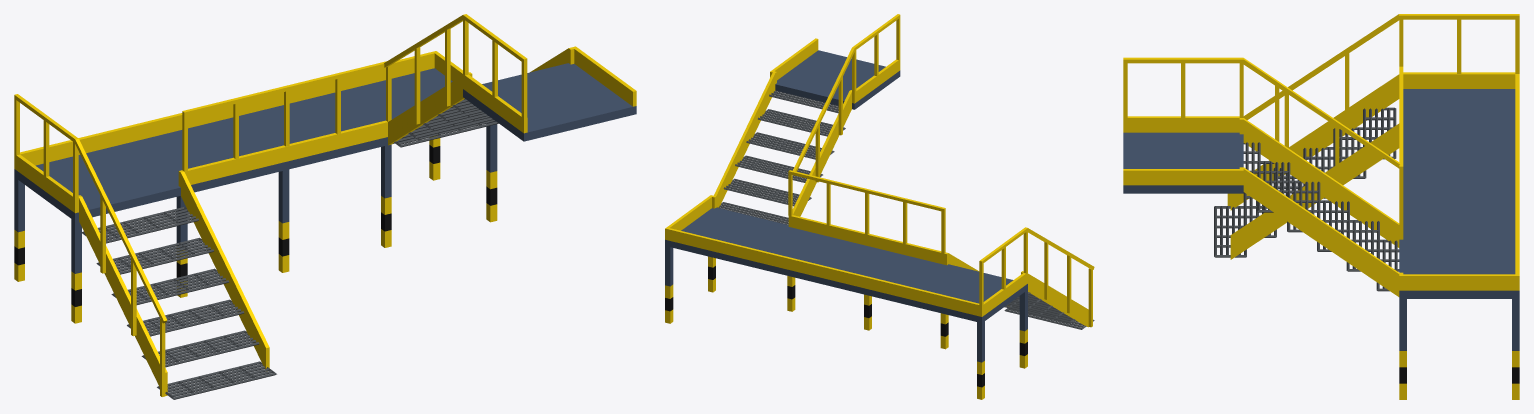
Rendered from StairPlatform2.fbx.
The picture shows the model from 3 angles, left to right: view 1: azimuth 30°, elevation 25°; view 2: azimuth 150°, elevation 25°; view 3: azimuth 270°, elevation 25°; orthographic projection. The views are drawn at different scales.
Parts seen in each view (by area): view 1: StairPlatformGOOD; view 2: StairPlatformGOOD; view 3: StairPlatformGOOD.
Part boxes in pixels (x1=…): StairPlatformGOOD: x1=14, y1=14, x2=636, y2=399; StairPlatformGOOD: x1=665, y1=14, x2=1094, y2=399; StairPlatformGOOD: x1=1123, y1=14, x2=1519, y2=399.
Bounding box in the file's own units: 800 × 547 × 658.
